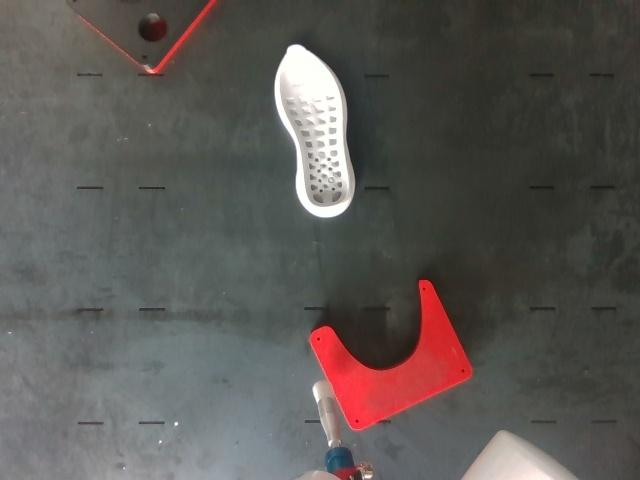shoes: (279, 45, 349, 207)
